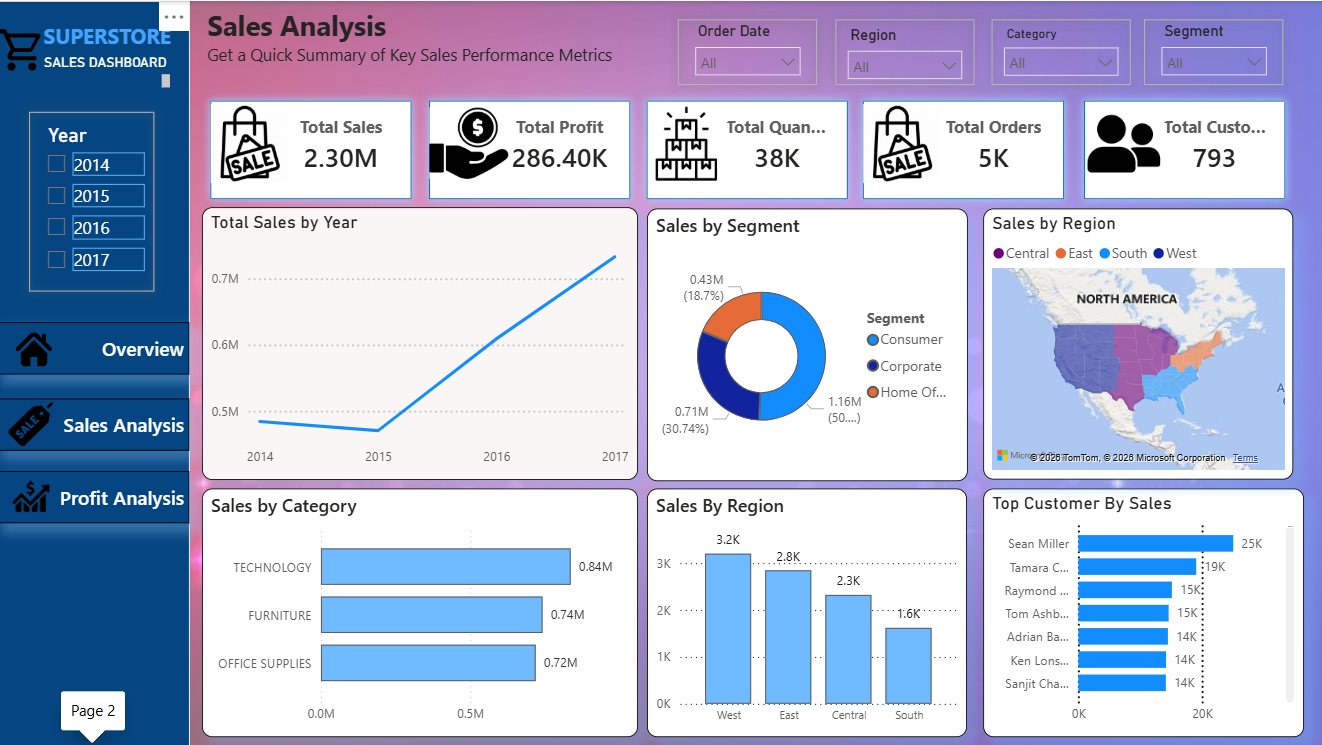

What the dashboard file says about the page in this screenshot:
{"tool":"powerbi","page":{"name":"Page 2","canvas":[1280,720],"ordinal":1},"visuals":[{"type":"shape","box":[0,0,185.9,720.2],"z":0},{"type":"shape","box":[649.3,9.8,150.4,79.5],"z":0,"group":"g2"},{"type":"group","id":"g1","title":"Group 5","box":[951.4,9.8,150.4,79.5],"z":0,"group":"g4"},{"type":"shape","box":[1099.3,9.8,150.4,79.5],"z":0,"group":"g11"},{"type":"shape","box":[23.2,99,137,189.5],"z":0,"group":"g10"},{"type":"slicer","fields":{"Values":["cleaned_superstore.Order Date"]},"box":[664,15.9,122.3,68.5],"z":1000,"group":"g2"},{"type":"slicer","fields":{"Values":["cleaned_superstore.Segment"]},"box":[1114,15.9,122.3,68.5],"z":1000,"group":"g11"},{"type":"slicer","fields":{"Values":["cleaned_superstore.Category"]},"box":[960.8,19.5,130.8,59.9],"z":1000,"group":"g4"},{"type":"textbox","title":"SALES DASHBOARD","box":[23.2,47.7,149.2,40.4],"z":1000},{"type":"slicer","fields":{"Values":["cleaned_superstore.Year"]},"box":[36.6,113.6,111.3,163.3],"z":1000,"group":"g10"},{"type":"image","box":[0,19.6,47.7,56.3],"z":2000},{"type":"textbox","box":[198.1,0,507.5,88],"z":3000},{"type":"group","id":"g2","title":"Group 3","box":[649.3,9.8,150.4,79.5],"z":4000},{"type":"shape","box":[801,9.8,150.4,79.5],"z":4000,"group":"g3"},{"type":"shape","box":[951.4,9.8,150.4,79.5],"z":4000,"group":"g1"},{"type":"group","id":"g3","title":"Group 5","box":[801,9.8,150.4,79.5],"z":5000},{"type":"group","id":"g4","title":"Group 1","box":[951.4,9.8,150.4,79.5],"z":6000},{"type":"group","id":"g5","title":"Group 2","box":[198.1,88,210.3,111.3],"z":7000},{"type":"shape","box":[198.1,88,210.3,111.3],"z":7000,"group":"g5"},{"type":"shape","box":[408.4,88,210.3,111.3],"z":7000,"group":"g6"},{"type":"shape","box":[618.8,88,210.3,111.3],"z":7000,"group":"g7"},{"type":"shape","box":[827.9,88,210.3,111.3],"z":7000,"group":"g8"},{"type":"shape","box":[1040.6,88,210.3,111.3],"z":7000,"group":"g9"},{"type":"slicer","fields":{"Values":["cleaned_superstore.Region"]},"box":[810.8,19.6,130.8,57.5],"z":7001,"group":"g3"},{"type":"group","id":"g6","title":"Group 2","box":[408.4,88,210.3,111.3],"z":8000},{"type":"cardVisual","fields":{"Data":["cleaned_superstore.Total Sales"]},"box":[265.4,99,133.3,79.5],"z":8000,"group":"g5"},{"type":"cardVisual","fields":{"Data":["cleaned_superstore.Total Profit"]},"box":[475.7,99,133.3,79.5],"z":8000,"group":"g6"},{"type":"cardVisual","fields":{"Data":["cleaned_superstore.Total Quantity"]},"box":[686.1,99,133.3,79.5],"z":8000,"group":"g7"},{"type":"cardVisual","fields":{"Data":["cleaned_superstore.Total Orders"]},"box":[895.2,99,133.3,79.5],"z":8000,"group":"g8"},{"type":"cardVisual","fields":{"Data":["cleaned_superstore.Total Customer"]},"box":[1107.9,99,133.3,79.5],"z":8000,"group":"g9"},{"type":"group","id":"g7","title":"Group 2","box":[618.8,88,210.3,111.3],"z":9000},{"type":"image","box":[206.7,96.6,75.8,81.9],"z":9000,"group":"g5"},{"type":"image","box":[417,96.6,75.8,81.9],"z":9000,"group":"g6"},{"type":"image","box":[627.4,96.6,75.8,81.9],"z":9000,"group":"g7"},{"type":"image","box":[836.5,96.6,75.8,81.9],"z":9000,"group":"g8"},{"type":"image","box":[1049.2,96.6,75.8,81.9],"z":9000,"group":"g9"},{"type":"group","id":"g8","title":"Group 2","box":[827.9,88,210.3,111.3],"z":10000},{"type":"group","id":"g9","title":"Group 2","box":[1040.6,88,210.3,111.3],"z":11000},{"type":"lineChart","fields":{"Category":["cleaned_superstore.Year"],"Y":["cleaned_superstore.Total Sales"]},"box":[198.1,199.3,420.7,262.9],"z":12000},{"type":"group","id":"g10","title":"Group 3","box":[23.2,99,137,189.5],"z":13000},{"type":"donutChart","title":"Sales by Segment","fields":{"Y":["Sum(cleaned_superstore.Sales)"],"Category":["cleaned_superstore.Segment"]},"box":[627.3,200.5,309.4,262.9],"z":14000},{"type":"barChart","title":"Sales by Category","fields":{"Y":["Sum(cleaned_superstore.Sales)"],"Category":["cleaned_superstore.Category"]},"box":[198.1,470.8,420.7,239.7],"z":15000},{"type":"clusteredColumnChart","title":"Sales By Region","fields":{"Y":["CountNonNull(cleaned_superstore.State)"],"Category":["cleaned_superstore.Region"]},"box":[627,471,309,240],"z":16000},{"type":"barChart","title":"Top Customer By Sales ","fields":{"Category":["cleaned_superstore.Customer Name"],"Y":["cleaned_superstore.Total Sales"]},"box":[951.4,470.8,309.4,239.7],"z":17000},{"type":"filledMap","title":"Sales by Region","fields":{"Category":["cleaned_superstore.State"],"Series":["cleaned_superstore.Region"]},"box":[951.4,200.5,299.6,261.7],"z":18000},{"type":"actionButton","box":[0,310.6,185.9,50.1],"z":19000},{"type":"actionButton","box":[0,384,185.9,50.1],"z":20000},{"type":"actionButton","box":[0,453.7,185.9,50.1],"z":21000},{"type":"group","id":"g11","title":"Group 3","box":[1099.3,9.8,150.4,79.5],"z":22000},{"type":"image","box":[15.9,317.9,40.4,35.5],"z":23000},{"type":"image","box":[8.6,387.6,47.7,42.8],"z":24000},{"type":"image","box":[12.2,458.6,41.6,42.8],"z":25000}]}

Visuals, with their boxes on the page's 1280x720 design canvas (x1, y1, x2, y2). These are canvas units, not pixel positions in the 1322x745 screenshot, which may show the page scaled, cropped or inside an application window:
shape: [left=0, top=0, right=186, bottom=720]
shape: [left=649, top=10, right=800, bottom=89]
"Group 5" group: [left=951, top=10, right=1102, bottom=89]
shape: [left=1099, top=10, right=1250, bottom=89]
shape: [left=23, top=99, right=160, bottom=288]
slicer - cleaned_superstore.Order Date: [left=664, top=16, right=786, bottom=84]
slicer - cleaned_superstore.Segment: [left=1114, top=16, right=1236, bottom=84]
slicer - cleaned_superstore.Category: [left=961, top=20, right=1092, bottom=79]
"SALES DASHBOARD" textbox: [left=23, top=48, right=172, bottom=88]
slicer - cleaned_superstore.Year: [left=37, top=114, right=148, bottom=277]
image: [left=0, top=20, right=48, bottom=76]
textbox: [left=198, top=0, right=706, bottom=88]
"Group 3" group: [left=649, top=10, right=800, bottom=89]
shape: [left=801, top=10, right=951, bottom=89]
shape: [left=951, top=10, right=1102, bottom=89]
"Group 5" group: [left=801, top=10, right=951, bottom=89]
"Group 1" group: [left=951, top=10, right=1102, bottom=89]
"Group 2" group: [left=198, top=88, right=408, bottom=199]
shape: [left=198, top=88, right=408, bottom=199]
shape: [left=408, top=88, right=619, bottom=199]
shape: [left=619, top=88, right=829, bottom=199]
shape: [left=828, top=88, right=1038, bottom=199]
shape: [left=1041, top=88, right=1251, bottom=199]
slicer - cleaned_superstore.Region: [left=811, top=20, right=942, bottom=77]
"Group 2" group: [left=408, top=88, right=619, bottom=199]
cardVisual - cleaned_superstore.Total Sales: [left=265, top=99, right=399, bottom=178]
cardVisual - cleaned_superstore.Total Profit: [left=476, top=99, right=609, bottom=178]
cardVisual - cleaned_superstore.Total Quantity: [left=686, top=99, right=819, bottom=178]
cardVisual - cleaned_superstore.Total Orders: [left=895, top=99, right=1028, bottom=178]
cardVisual - cleaned_superstore.Total Customer: [left=1108, top=99, right=1241, bottom=178]
"Group 2" group: [left=619, top=88, right=829, bottom=199]
image: [left=207, top=97, right=282, bottom=178]
image: [left=417, top=97, right=493, bottom=178]
image: [left=627, top=97, right=703, bottom=178]
image: [left=836, top=97, right=912, bottom=178]
image: [left=1049, top=97, right=1125, bottom=178]
"Group 2" group: [left=828, top=88, right=1038, bottom=199]
"Group 2" group: [left=1041, top=88, right=1251, bottom=199]
lineChart - cleaned_superstore.Year x cleaned_superstore.Total Sales: [left=198, top=199, right=619, bottom=462]
"Group 3" group: [left=23, top=99, right=160, bottom=288]
"Sales by Segment" donutChart: [left=627, top=200, right=937, bottom=463]
"Sales by Category" barChart: [left=198, top=471, right=619, bottom=710]
"Sales By Region" clusteredColumnChart: [left=627, top=471, right=936, bottom=711]
"Top Customer By Sales " barChart: [left=951, top=471, right=1261, bottom=710]
"Sales by Region" filledMap: [left=951, top=200, right=1251, bottom=462]
actionButton: [left=0, top=311, right=186, bottom=361]
actionButton: [left=0, top=384, right=186, bottom=434]
actionButton: [left=0, top=454, right=186, bottom=504]
"Group 3" group: [left=1099, top=10, right=1250, bottom=89]
image: [left=16, top=318, right=56, bottom=353]
image: [left=9, top=388, right=56, bottom=430]
image: [left=12, top=459, right=54, bottom=501]
